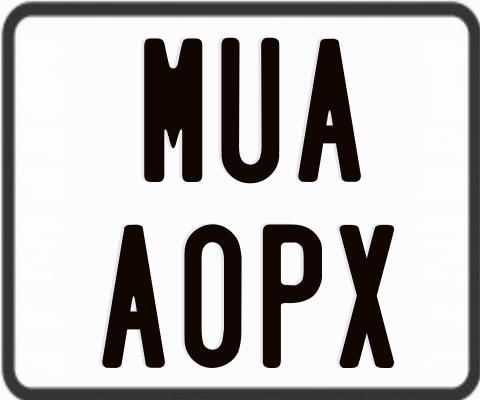0: (182, 221, 242, 368)
A: (100, 222, 169, 369), (296, 39, 359, 187)
M: (141, 37, 202, 187)
P: (262, 221, 327, 367)
U: (218, 37, 279, 183)
X: (337, 225, 396, 374)
